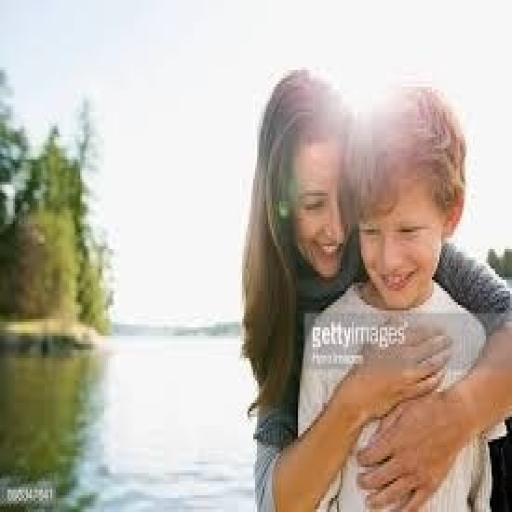hugging: (240, 64, 510, 510)
